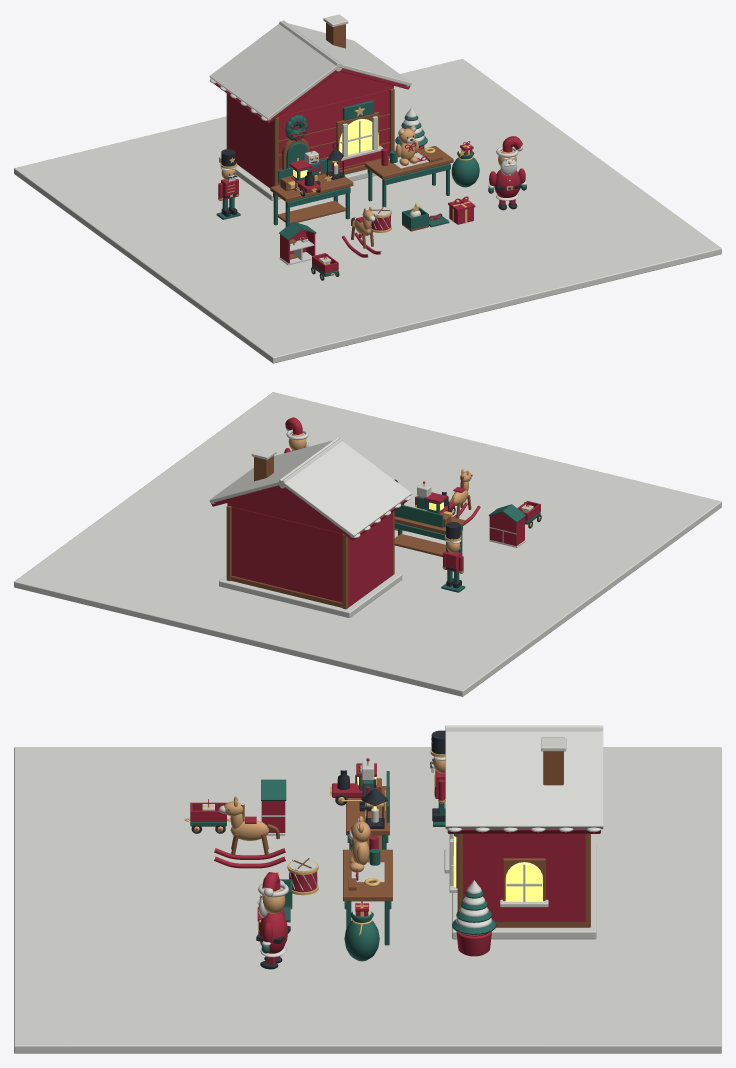
File: christmas-storybook-santas-toy-workshop-6436b697__18783.glb
3 renders of one model, top to bottom at view 1: azimuth 30°, elevation 25°; view 2: azimuth 150°, elevation 25°; view 3: azimuth 270°, elevation 25°, orthographic. The views are drawn at different scales.
Visible parts, largest first — view 1: 000-village-snow-foundation/cream, 001-toy-makers-workshop/cream, 001-toy-makers-workshop/berry, 001-toy-makers-workshop/oak, 002-toy-workbench/oak, 001-toy-makers-workshop/pine, 002-toy-workbench/pine, 003-gift-wrapping-station/oak, 011-storybook-santa/berry, 003-gift-wrapping-station/pine, 001-toy-makers-workshop/light, 014-overflowing-gift-sack/pine (+3 smaller); view 2: 000-village-snow-foundation/cream, 001-toy-makers-workshop/berry, 001-toy-makers-workshop/cream, 001-toy-makers-workshop/oak, 002-toy-workbench/oak, 002-toy-workbench/pine, 007-miniature-dollhouse/berry; view 3: 000-village-snow-foundation/cream, 001-toy-makers-workshop/cream, 001-toy-makers-workshop/berry, 001-toy-makers-workshop/oak, 003-gift-wrapping-station/oak, 001-toy-makers-workshop/light, 014-overflowing-gift-sack/pine, 011-storybook-santa/berry, 002-toy-workbench/oak, 008-rocking-horse/biscuit, 015-potted-sapling/pine, 008-rocking-horse/berry (+9 smaller).
Boxes of the visible parts, bbox=[...] form: 000-village-snow-foundation/cream: bbox=[14, 59, 721, 363]; 001-toy-makers-workshop/cream: bbox=[209, 14, 411, 200]; 001-toy-makers-workshop/berry: bbox=[213, 68, 410, 188]; 001-toy-makers-workshop/oak: bbox=[226, 23, 394, 186]; 002-toy-workbench/oak: bbox=[270, 173, 353, 223]; 001-toy-makers-workshop/pine: bbox=[285, 100, 373, 168]; 002-toy-workbench/pine: bbox=[273, 159, 350, 226]; 003-gift-wrapping-station/oak: bbox=[364, 146, 453, 179]; 011-storybook-santa/berry: bbox=[489, 136, 525, 204]; 003-gift-wrapping-station/pine: bbox=[367, 150, 450, 207]; 001-toy-makers-workshop/light: bbox=[339, 119, 378, 154]; 014-overflowing-gift-sack/pine: bbox=[451, 151, 479, 187]; 000-village-snow-foundation/cream: bbox=[14, 392, 721, 696]; 001-toy-makers-workshop/berry: bbox=[211, 485, 407, 607]; 001-toy-makers-workshop/cream: bbox=[209, 437, 411, 617]; 001-toy-makers-workshop/oak: bbox=[226, 455, 394, 609]; 002-toy-workbench/oak: bbox=[394, 513, 465, 556]; 002-toy-workbench/pine: bbox=[394, 505, 462, 555]; 007-miniature-dollhouse/berry: bbox=[489, 512, 524, 546]; 000-village-snow-foundation/cream: bbox=[14, 747, 721, 1053]; 001-toy-makers-workshop/cream: bbox=[444, 725, 603, 939]; 001-toy-makers-workshop/berry: bbox=[447, 829, 600, 921]; 001-toy-makers-workshop/oak: bbox=[456, 751, 590, 927]; 003-gift-wrapping-station/oak: bbox=[343, 849, 392, 901]; 001-toy-makers-workshop/light: bbox=[453, 834, 542, 901]; 014-overflowing-gift-sack/pine: bbox=[344, 911, 379, 961]; 011-storybook-santa/berry: bbox=[259, 872, 287, 964]; 002-toy-workbench/oak: bbox=[346, 778, 389, 849]; 008-rocking-horse/biscuit: bbox=[224, 796, 269, 840]; 015-potted-sapling/pine: bbox=[452, 891, 496, 934]; 008-rocking-horse/berry: bbox=[214, 816, 285, 868].
Size of the model in its own units: 12 by 3.48 by 12.
